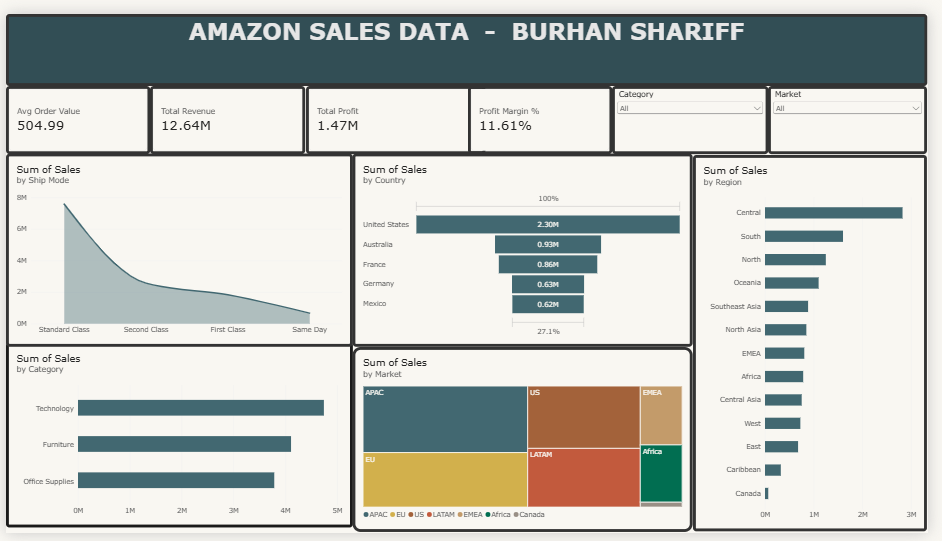

Layout of this report page (visuals, bound fields, positions):
{"tool":"powerbi","page":{"name":"Page 1","canvas":[1920,1080],"ordinal":0},"visuals":[{"type":"clusteredBarChart","fields":{"Category":["Orders.Category"],"Y":["Sum(Orders.Sales)"]},"box":[0,684.8,722.8,385.5],"z":0},{"type":"treemap","fields":{"Group":["Orders.Market"],"Values":["Sum(Orders.Sales)"]},"box":[722.8,694.5,708.7,385.5],"z":1000},{"type":"clusteredBarChart","fields":{"Category":["Orders.Region"],"Y":["Sum(Orders.Sales)"]},"box":[1431.5,292.9,487.6,784.3],"z":2000},{"type":"textbox","box":[0,0,1919.1,150.2],"z":3000},{"type":"funnel","fields":{"Category":["Orders.Country"],"Y":["Sum(Orders.Sales)"]},"box":[722.8,292,708.7,402.5],"z":4000},{"type":"areaChart","fields":{"Category":["Orders.Ship Mode"],"Y":["Sum(Orders.Sales)"]},"box":[0,292,722.8,402.5],"z":5000},{"type":"cardVisual","fields":{"Data":["Orders.Avg Order Value"]},"box":[0,150.2,300.5,141.7],"z":6000},{"type":"cardVisual","fields":{"Data":["Orders.Total Revenue"]},"box":[300.5,150.2,323.2,141.7],"z":7000},{"type":"cardVisual","fields":{"Data":["Orders.Total Profit"]},"box":[623.6,150.2,374.2,141.7],"z":8000},{"type":"cardVisual","fields":{"Data":["Orders.Profit Margin %"]},"box":[961,150.2,300.5,141.7],"z":9000},{"type":"slicer","fields":{"Values":["Orders.Market"]},"box":[1587.4,150.2,331.7,141.7],"z":10000},{"type":"slicer","fields":{"Values":["Orders.Category"]},"box":[1261.4,150.2,326,141.7],"z":11000}]}

Visuals, with their boxes in screenshot pixels (x1, y1, x2, y2), scaled from the page's 1920x1080 canvas onto the 942x541 screenshot:
clusteredBarChart - Orders.Category x Sum(Orders.Sales): x1=0, y1=343, x2=355, y2=536
treemap - Orders.Market x Sum(Orders.Sales): x1=355, y1=348, x2=702, y2=540
clusteredBarChart - Orders.Region x Sum(Orders.Sales): x1=702, y1=147, x2=941, y2=540
textbox: x1=0, y1=0, x2=941, y2=75
funnel - Orders.Country x Sum(Orders.Sales): x1=355, y1=146, x2=702, y2=348
areaChart - Orders.Ship Mode x Sum(Orders.Sales): x1=0, y1=146, x2=355, y2=348
cardVisual - Orders.Avg Order Value: x1=0, y1=75, x2=147, y2=146
cardVisual - Orders.Total Revenue: x1=147, y1=75, x2=306, y2=146
cardVisual - Orders.Total Profit: x1=306, y1=75, x2=490, y2=146
cardVisual - Orders.Profit Margin %: x1=471, y1=75, x2=619, y2=146
slicer - Orders.Market: x1=779, y1=75, x2=941, y2=146
slicer - Orders.Category: x1=619, y1=75, x2=779, y2=146
